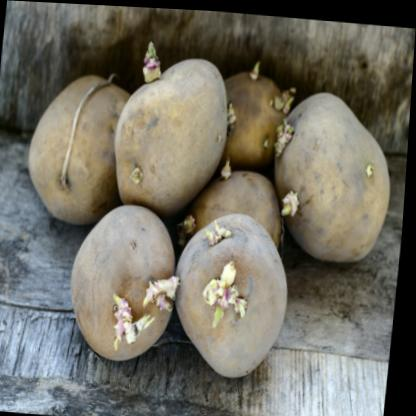potato: (264, 70, 399, 273), (111, 35, 240, 228), (168, 206, 299, 384), (21, 62, 148, 237), (66, 193, 184, 381)
